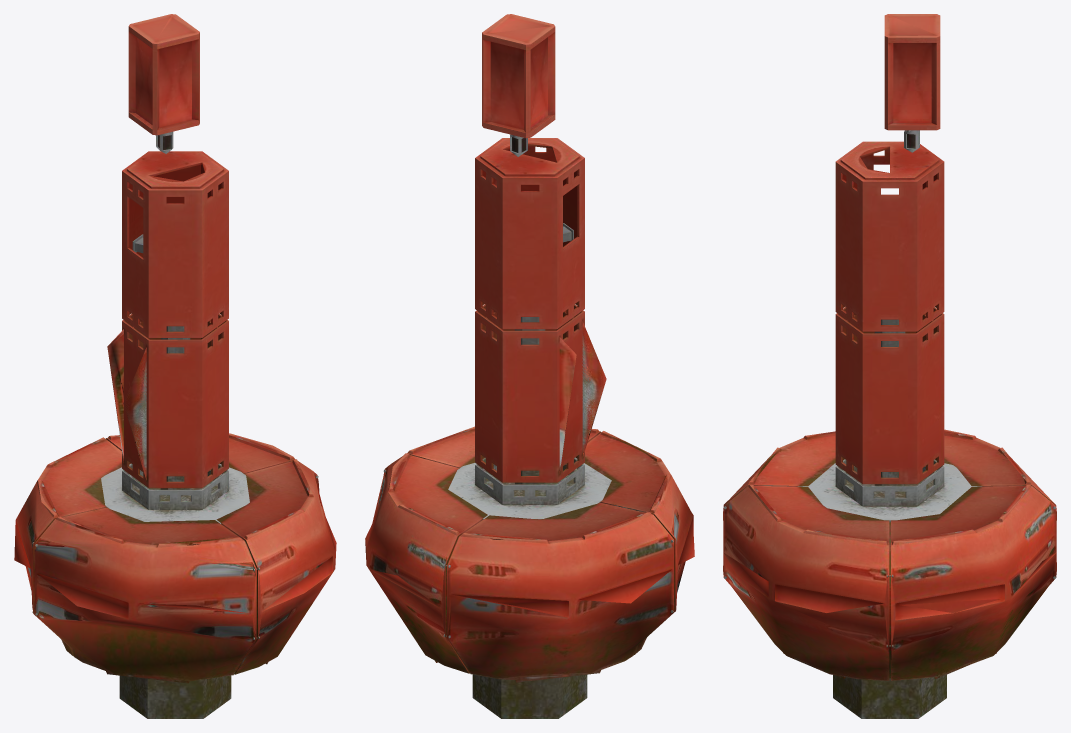
File: lateral_sea_marker_web.glb
3 views of the same model, side by side, from view 1: azimuth 30°, elevation 25°; view 2: azimuth 150°, elevation 25°; view 3: azimuth 270°, elevation 25° (orthographic). The views are drawn at different scales.
Visible parts, largest first — view 1: lateral_sea_marker; view 2: lateral_sea_marker; view 3: lateral_sea_marker.
Boxes of the visible parts, <box> form: lateral_sea_marker: <box>14,14,336,718</box>; lateral_sea_marker: <box>365,14,694,718</box>; lateral_sea_marker: <box>723,14,1056,718</box>.
Bounding box in the file's own units: 3 × 6.68 × 3.
1 material, 1 textured.
